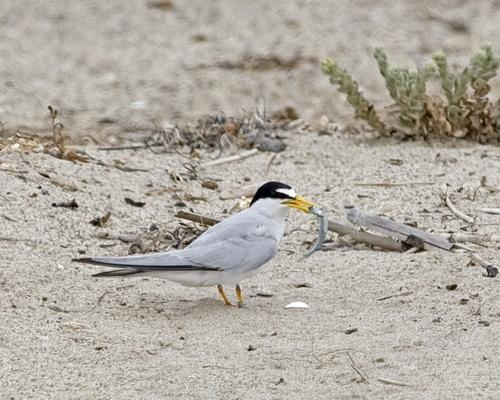bird: (65, 180, 321, 305)
